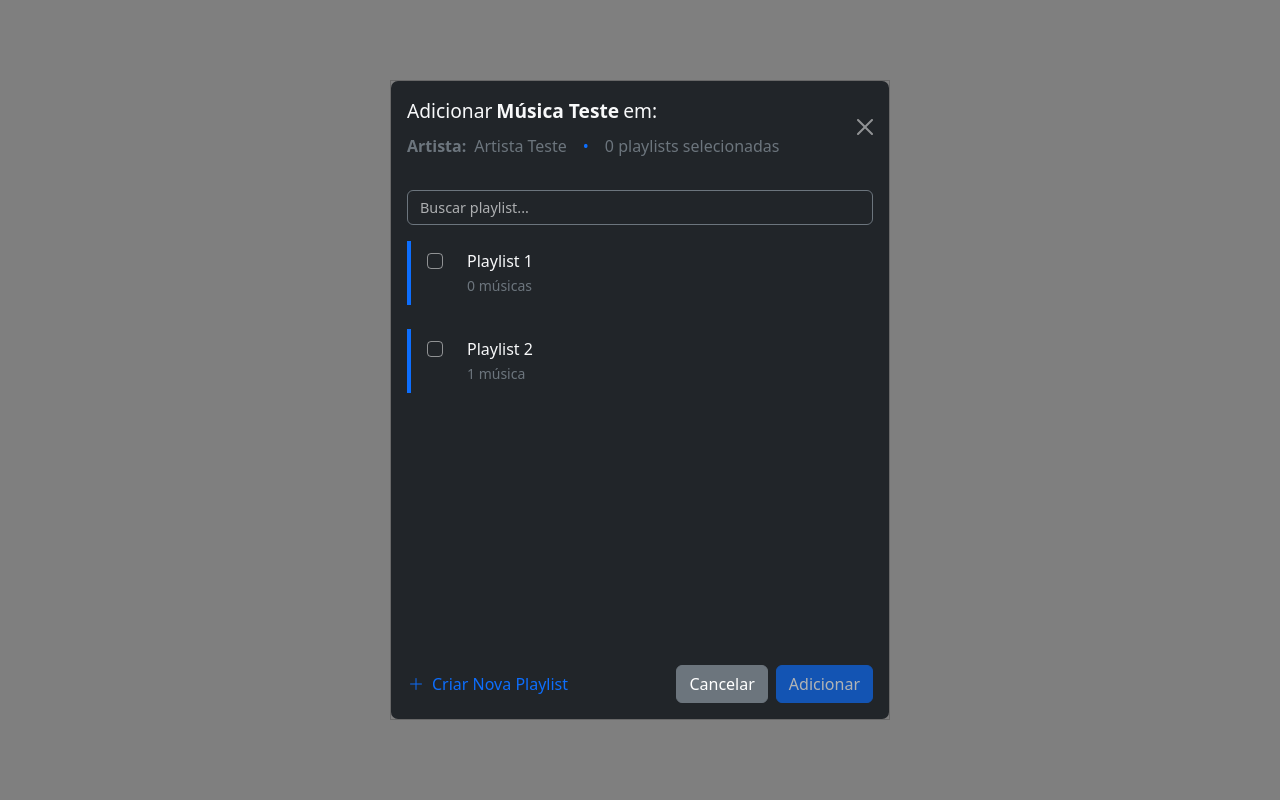
Test case: Modal Adicionar à Playlist › deve permitir buscar playlists
Step 1. Type "Playlist 1" into the field with placeholder "Buscar playlist..." → (640, 208), box [407, 190, 873, 225]
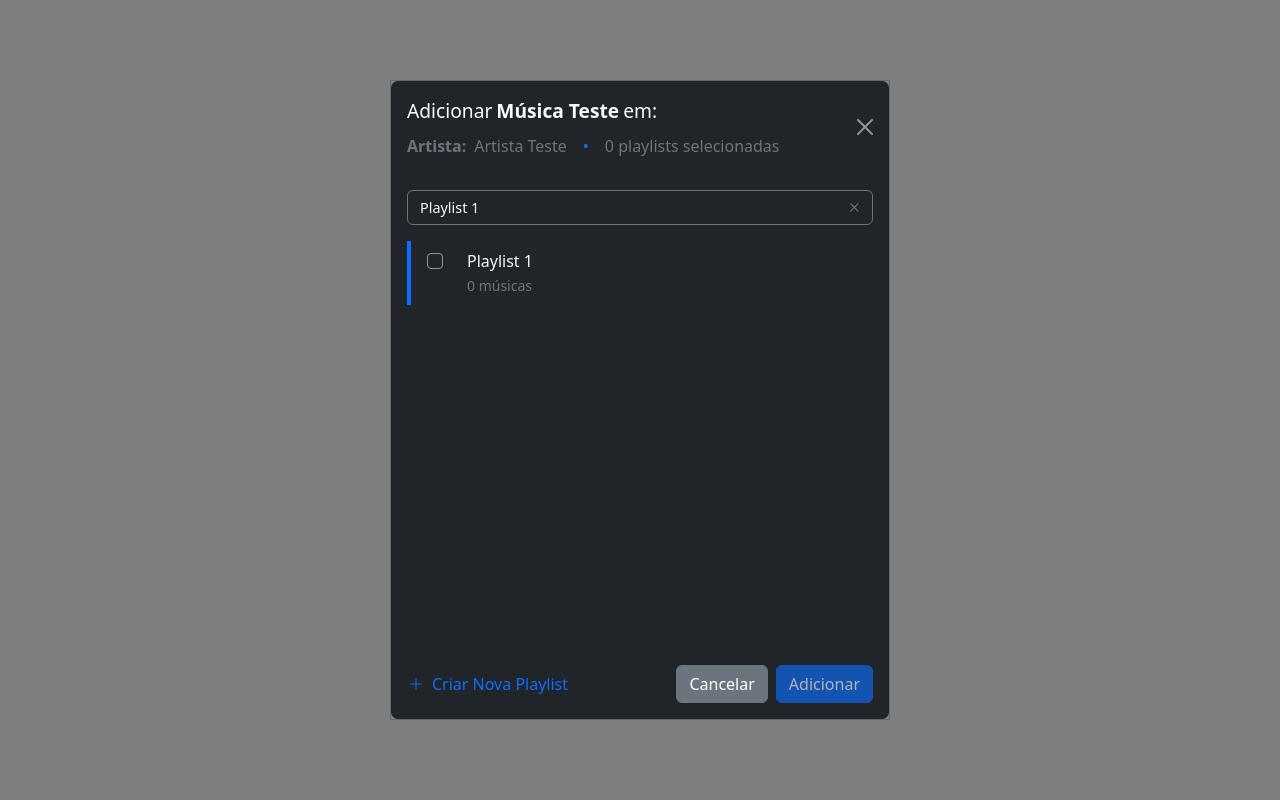
Expected: the text "Playlist 1" is shown, [467, 250, 533, 272]
Expected: the text "Playlist 2" is gone
